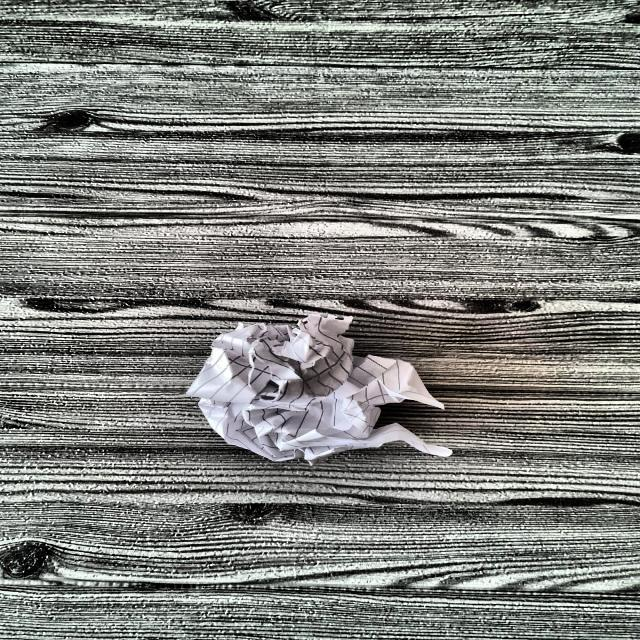Paper: (200, 314, 434, 458)
